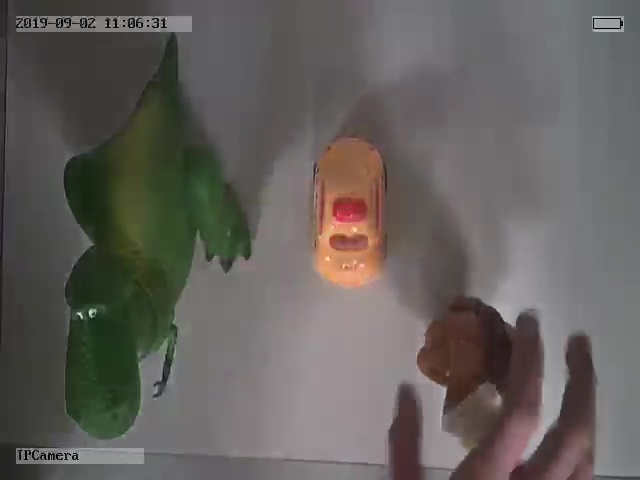car: (307, 135, 390, 288)
rex: (63, 50, 253, 438)
